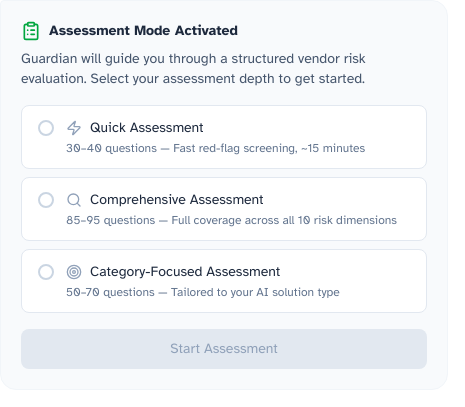
AssessmentTypeSelector › enables Start Assessment button after selecting an option
The width and height of the screenshot is (465, 407).
Click the button with test id "assessment-option-1" at {"x": 147, "y": 128}, box [21, 105, 427, 169]
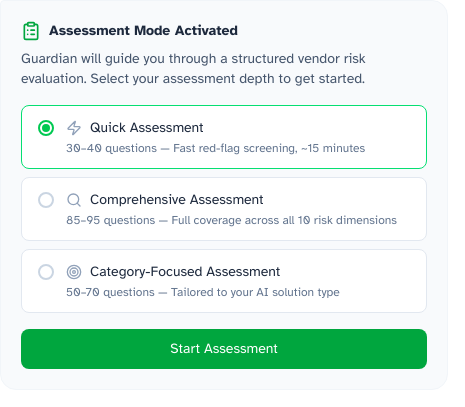
expect the button with test id "assessment-start-button" is enabled: met, box [21, 329, 427, 369]
